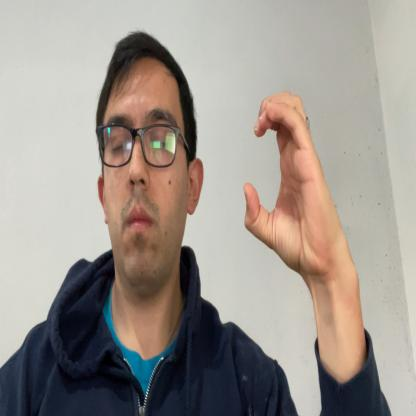C: (242, 90, 337, 274)
